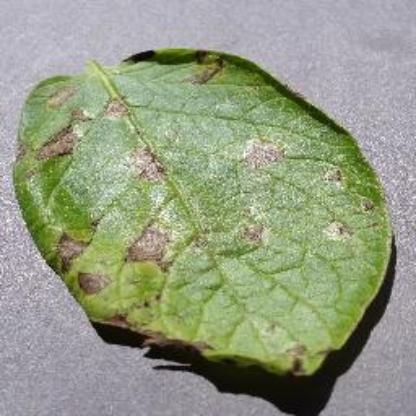Early-Blight: (9, 37, 401, 384)
